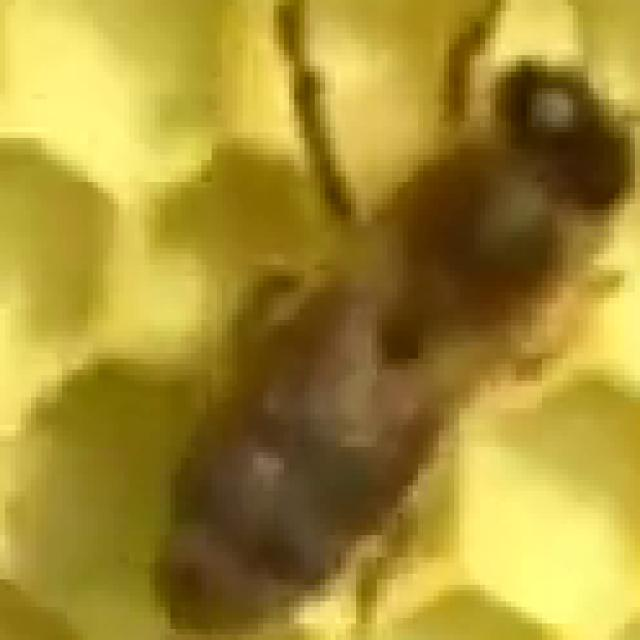honeybee: (160, 56, 640, 602)
